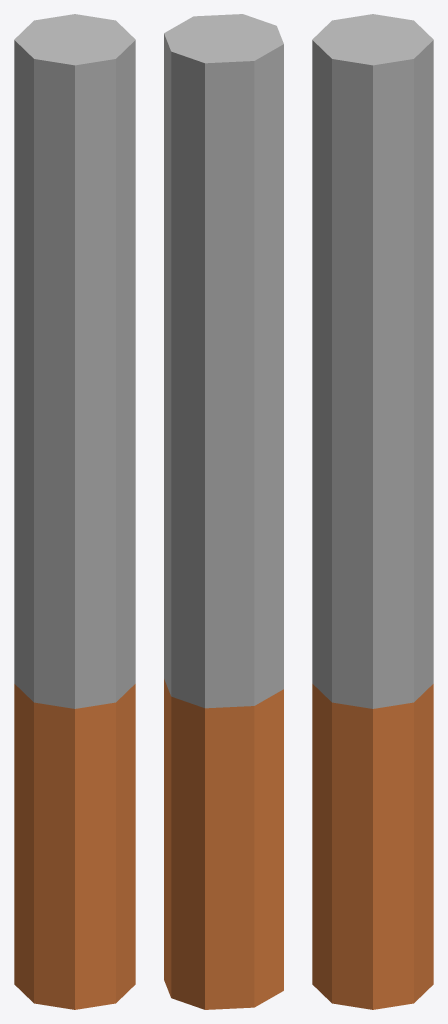
File: cigga.fbx
3 views of the same model, side by side, from view 1: azimuth 90°, elevation 25°; view 2: azimuth 210°, elevation 25°; view 3: azimuth 270°, elevation 25° (orthographic).
Parts seen in each view (by area): view 1: Cube; view 2: Cube; view 3: Cube.
Boxes of the visible parts, <box> form: Cube: <box>14,14,135,1009</box>; Cube: <box>164,14,283,1009</box>; Cube: <box>312,14,433,1009</box>.
Size of the model in its own units: 8.66 by 74.17 by 8.66.
